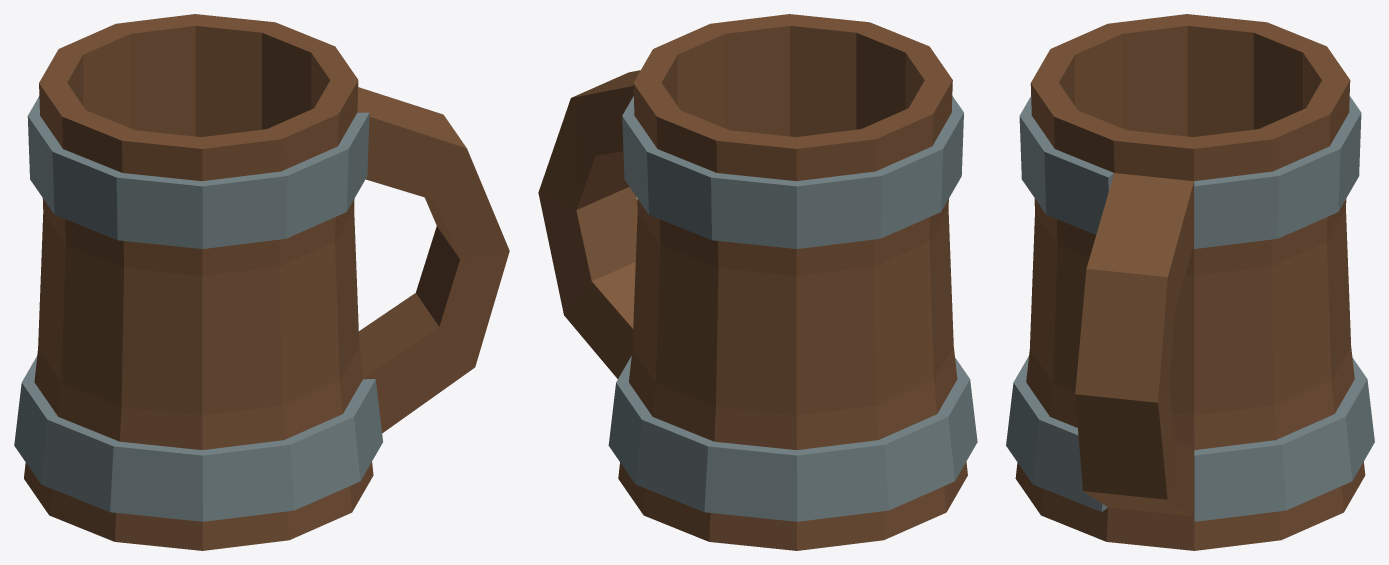
File: Cup.fbx
3 renders of one model, left to right at view 1: azimuth 30°, elevation 25°; view 2: azimuth 150°, elevation 25°; view 3: azimuth 270°, elevation 25°, orthographic.
Visible parts, largest first — view 1: Cup; view 2: Cup; view 3: Cup.
Part boxes in pixels (x1=…): Cup: x1=14, y1=14, x2=509, y2=550; Cup: x1=538, y1=14, x2=977, y2=550; Cup: x1=1006, y1=14, x2=1374, y2=550.
Bounding box in the file's own units: 27.45 × 24.09 × 20.37.
